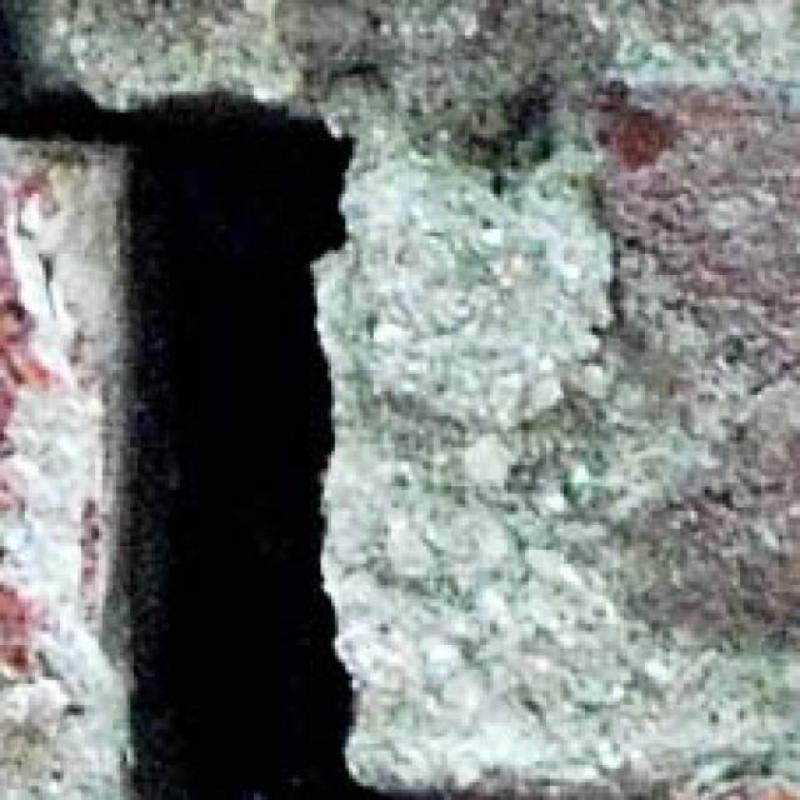crack: (3, 92, 376, 800)
